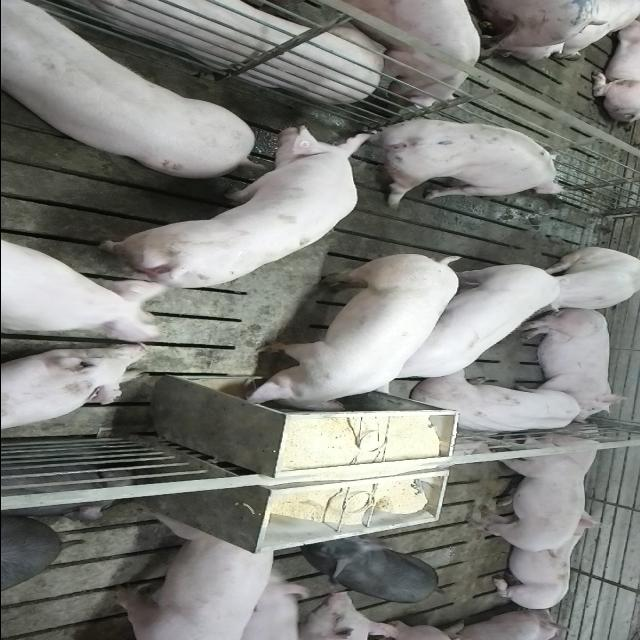Feeding: (235, 255, 465, 419)
Lateral_lying: (512, 306, 626, 423)
Sitting: (412, 373, 582, 437), (526, 248, 640, 316)
Standing: (86, 127, 368, 296), (0, 0, 256, 174), (362, 260, 564, 388), (100, 505, 274, 639), (354, 116, 566, 206), (458, 426, 590, 556), (337, 0, 479, 106)
Sternal_lying: (0, 238, 166, 348), (0, 346, 152, 434), (486, 512, 610, 610)
